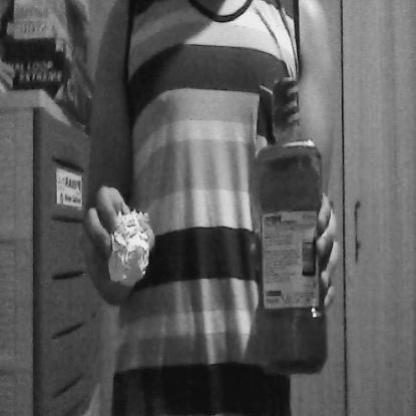Plastic Bottle: (241, 61, 337, 390)
